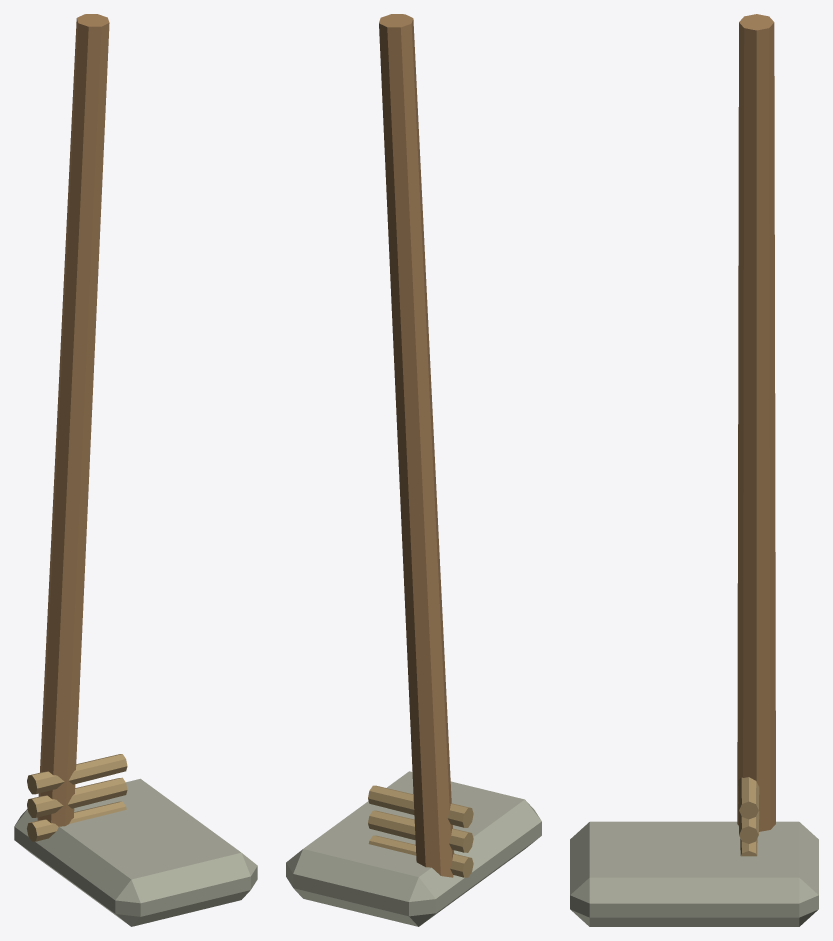
3 views of the same model, side by side, from view 1: azimuth 30°, elevation 25°; view 2: azimuth 150°, elevation 25°; view 3: azimuth 270°, elevation 25° (orthographic). The views are drawn at different scales.
Parts seen in each view (by area): view 1: GF-007 Bound stone garden hoe batched; view 2: GF-007 Bound stone garden hoe batched; view 3: GF-007 Bound stone garden hoe batched.
Boxes of the visible parts, left/top/right/bottom form: GF-007 Bound stone garden hoe batched: left=14, top=14, right=257, bottom=926; GF-007 Bound stone garden hoe batched: left=286, top=14, right=541, bottom=926; GF-007 Bound stone garden hoe batched: left=570, top=14, right=818, bottom=926.
Size of the model in its own units: 0.23 by 1.24 by 0.32.
